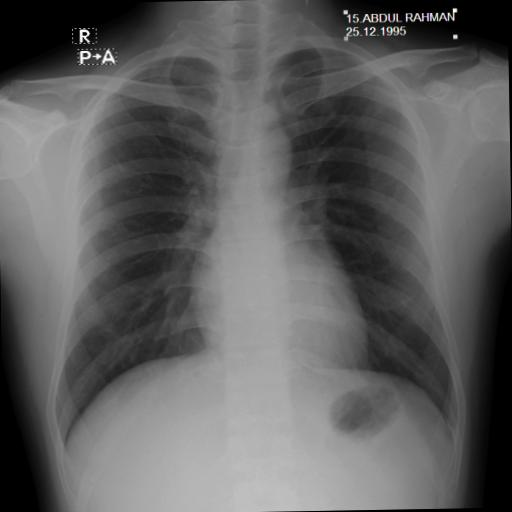normal: (40, 28, 470, 462)
